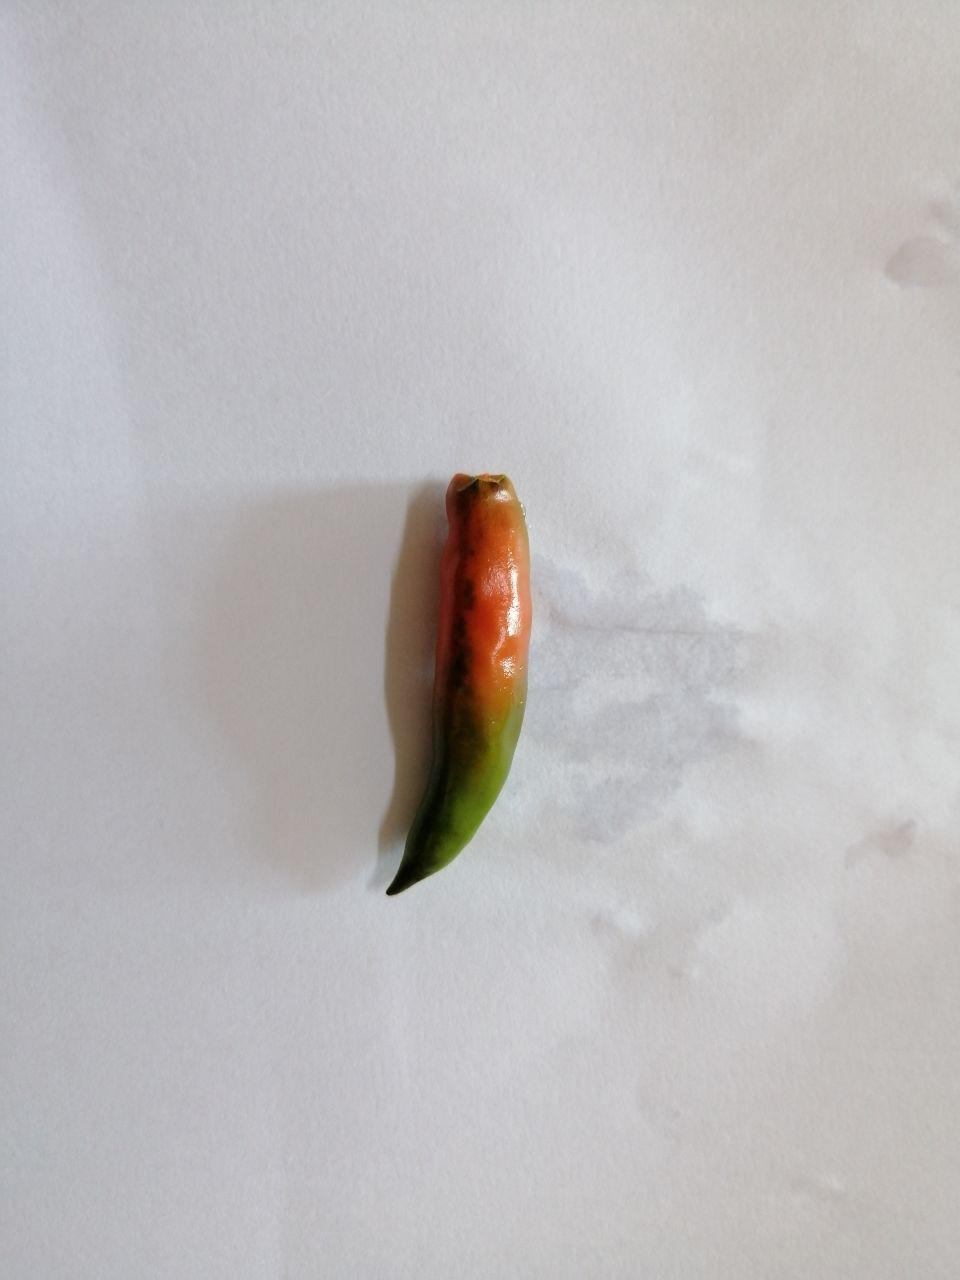lada kuning: (392, 429, 573, 937)
